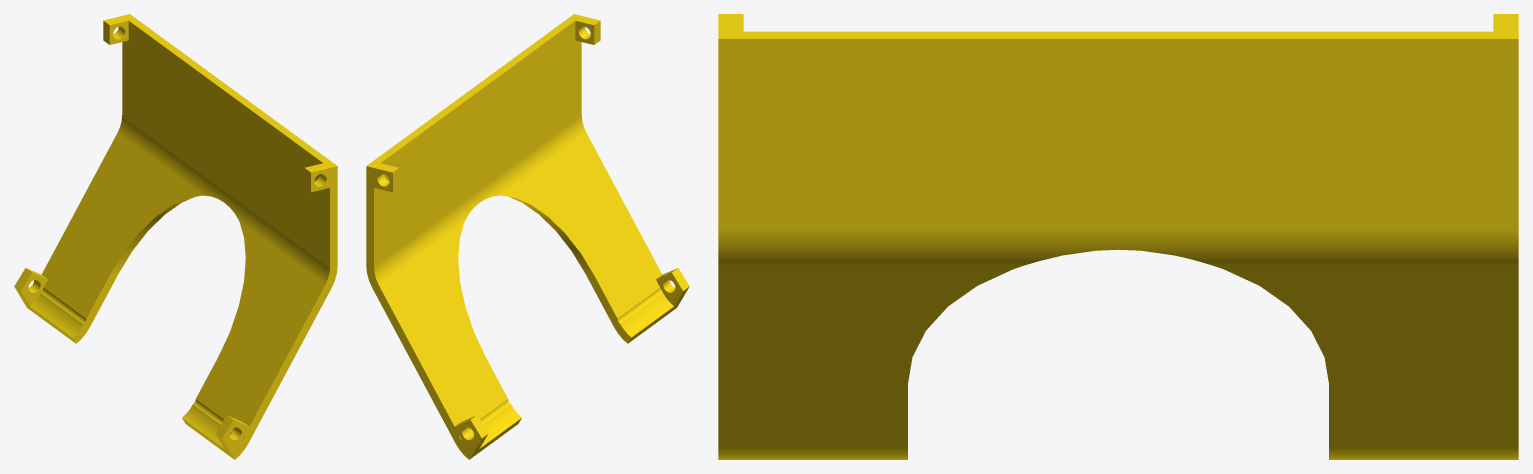
File: A26_W112_cover.gltf
3 views of the same model, side by side, from view 1: azimuth 30°, elevation 25°; view 2: azimuth 150°, elevation 25°; view 3: azimuth 270°, elevation 25° (orthographic). The views are drawn at different scales.
Parts seen in each view (by area): view 1: mesh16675, mesh16694, mesh16706, mesh16682, mesh16710, mesh16678, mesh16692, mesh16703, mesh16684, mesh16689, mesh16699, mesh16690; view 2: mesh16675, mesh16706, mesh16694, mesh16682, mesh16698, mesh16678, mesh16703, mesh16692, mesh16684, mesh16701, mesh16711, mesh16702; view 3: mesh16681, mesh16685, mesh16686, mesh16683, mesh16678, mesh16687, mesh16688.
Part boxes in pixels (x1=…): mesh16675: x1=122, y1=21, x2=329, y2=266; mesh16694: x1=41, y1=133, x2=202, y2=318; mesh16706: x1=196, y1=223, x2=324, y2=426; mesh16682: x1=117, y1=115, x2=329, y2=284; mesh16710: x1=222, y1=166, x2=337, y2=459; mesh16678: x1=103, y1=14, x2=337, y2=172; mesh16692: x1=30, y1=293, x2=83, y2=337; mesh16703: x1=182, y1=405, x2=231, y2=448; mesh16684: x1=109, y1=197, x2=194, y2=276; mesh16689: x1=72, y1=274, x2=117, y2=343; mesh16699: x1=21, y1=272, x2=47, y2=305; mesh16690: x1=41, y1=288, x2=86, y2=323; mesh16675: x1=374, y1=21, x2=581, y2=266; mesh16706: x1=501, y1=133, x2=662, y2=318; mesh16694: x1=379, y1=223, x2=507, y2=426; mesh16682: x1=374, y1=115, x2=586, y2=284; mesh16698: x1=366, y1=166, x2=481, y2=459; mesh16678: x1=366, y1=14, x2=600, y2=172; mesh16703: x1=620, y1=293, x2=673, y2=337; mesh16692: x1=472, y1=405, x2=521, y2=448; mesh16684: x1=509, y1=197, x2=594, y2=276; mesh16701: x1=586, y1=274, x2=631, y2=343; mesh16711: x1=656, y1=272, x2=682, y2=305; mesh16702: x1=617, y1=288, x2=662, y2=323; mesh16681: x1=718, y1=39, x2=1518, y2=229; mesh16685: x1=1212, y1=265, x2=1518, y2=447; mesh16686: x1=718, y1=265, x2=1024, y2=447; mesh16683: x1=718, y1=229, x2=1518, y2=265; mesh16678: x1=718, y1=14, x2=1518, y2=38; mesh16687: x1=1329, y1=447, x2=1518, y2=459; mesh16688: x1=718, y1=447, x2=907, y2=459.
Bounding box in the file's own units: 0.0388 × 0.0861 × 0.1207.
